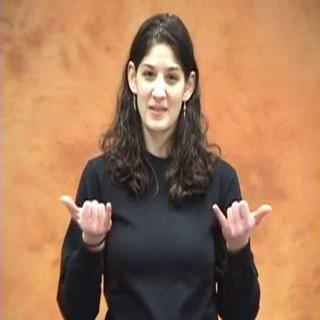now: (54, 188, 275, 251)
